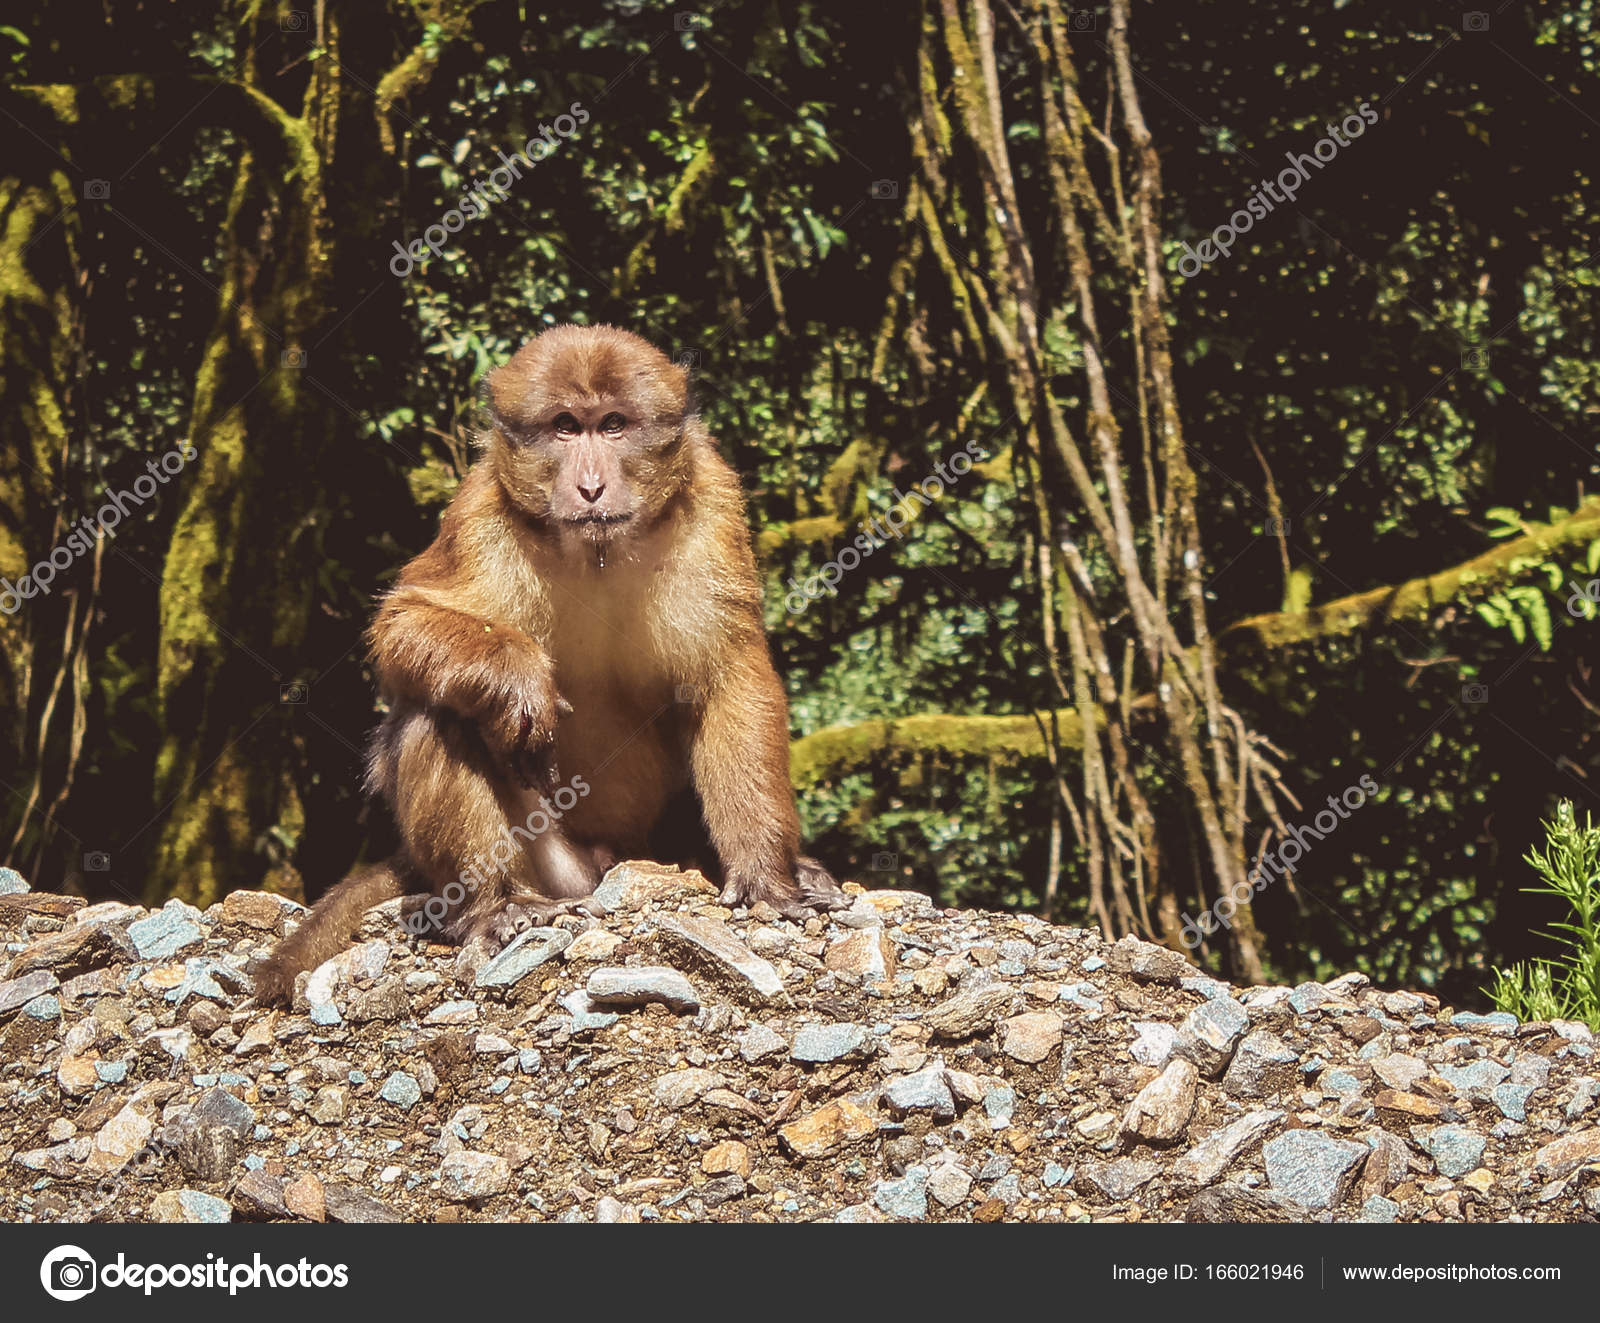monkey: (310, 331, 815, 951)
